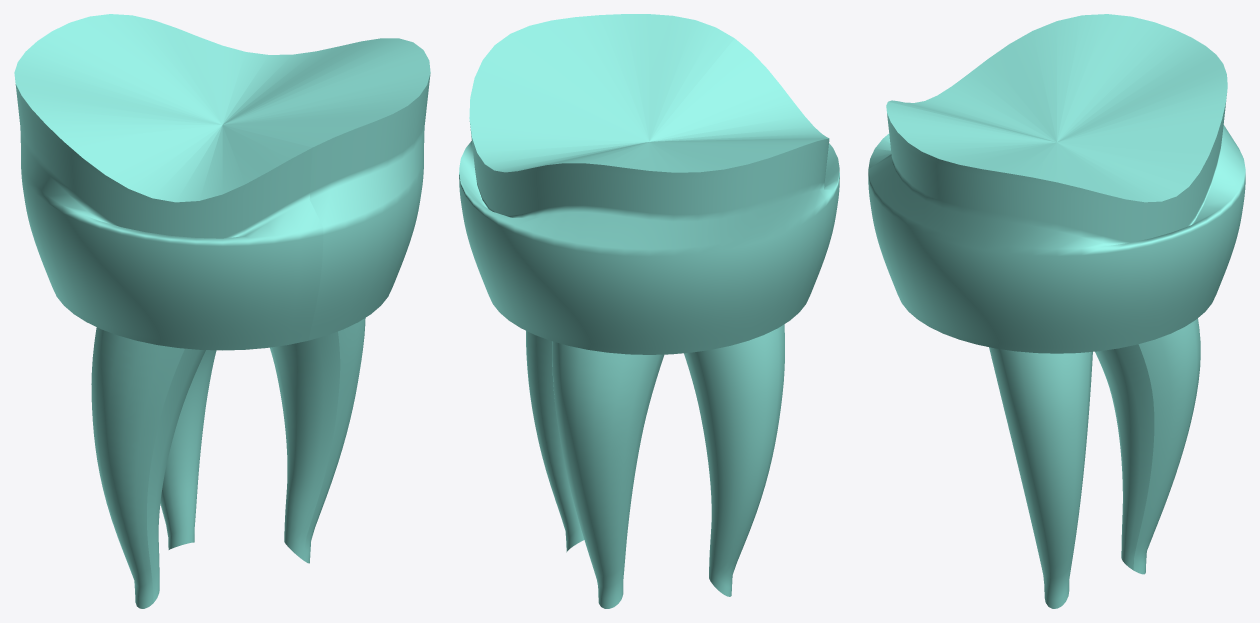
Rendered from tooth.glb.
3 renders of one model, left to right at view 1: azimuth 30°, elevation 25°; view 2: azimuth 150°, elevation 25°; view 3: azimuth 270°, elevation 25°, orthographic. The views are drawn at different scales.
Parts seen in each view (by area): view 1: MolarTooth; view 2: MolarTooth; view 3: MolarTooth.
Boxes of the visible parts, left/top/right/bottom form: MolarTooth: left=14, top=14, right=430, bottom=608; MolarTooth: left=459, top=14, right=839, bottom=608; MolarTooth: left=868, top=14, right=1245, bottom=608.
Bounding box in the file's own units: 2.98 × 4.13 × 2.94.
